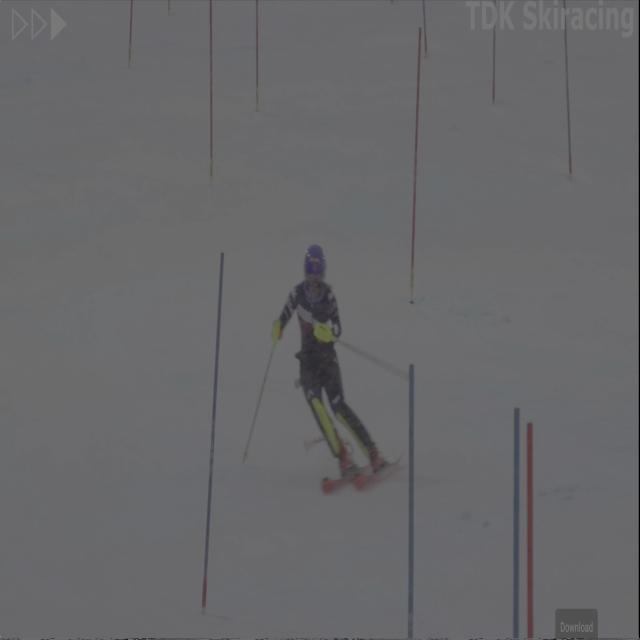gate: (196, 242, 230, 630), (398, 364, 434, 640), (496, 405, 526, 640), (403, 33, 427, 312), (523, 412, 544, 640), (196, 0, 220, 178), (243, 0, 263, 124)
